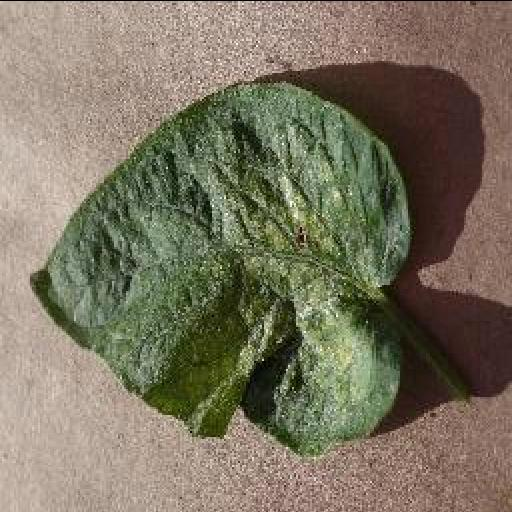disease_tomato: (30, 82, 414, 456)
